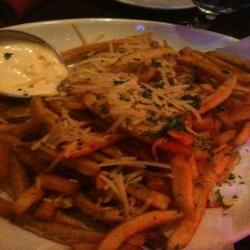fries: (6, 43, 242, 240)
